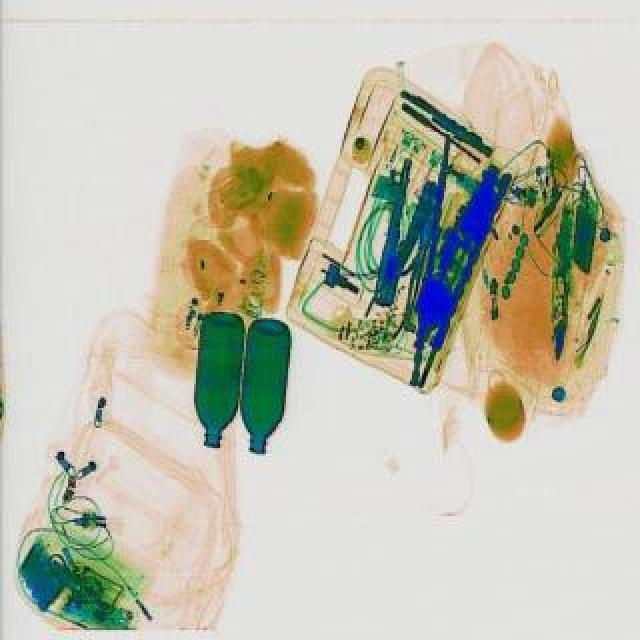wrench: (358, 168, 442, 308)
